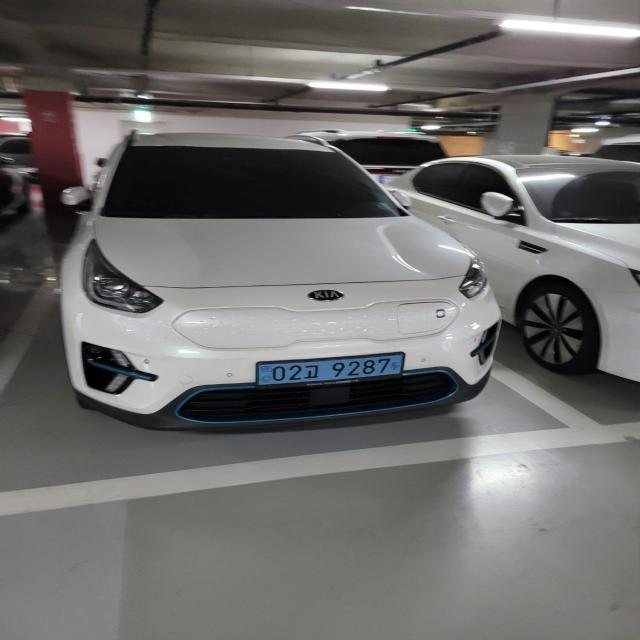EV_plate: (250, 354, 410, 392)
car: (59, 127, 506, 436)
